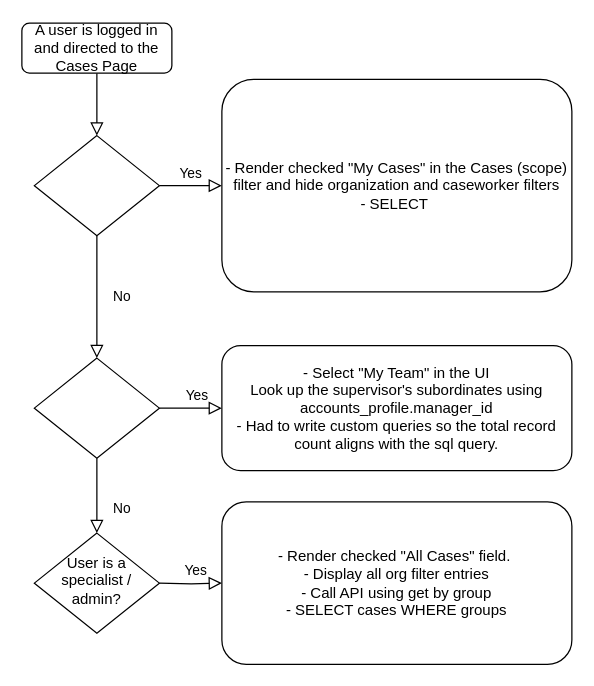
This 594x686 diagram has some shape labels left out. The shapes that lost their labels are listed below. From the top down, each one's centre as x and y in pixels, then its label:
At (96,185): "User is a caseworker?".
At (96,407): "User is a supervisor".
